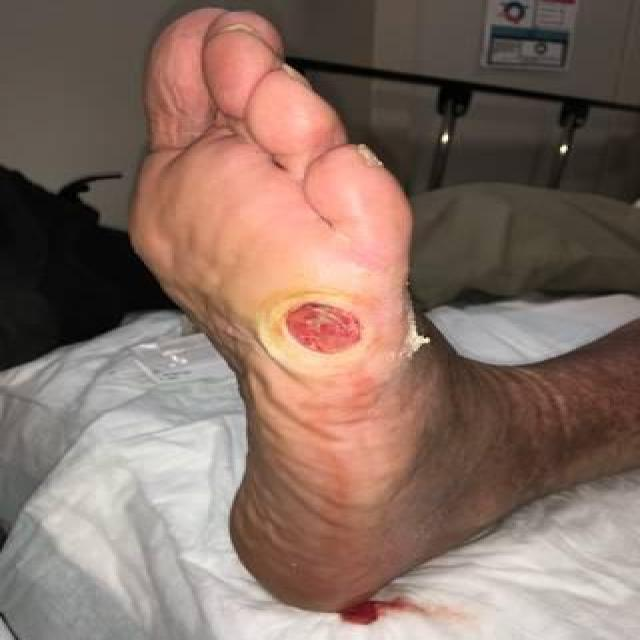stage-3: (287, 304, 360, 353)
